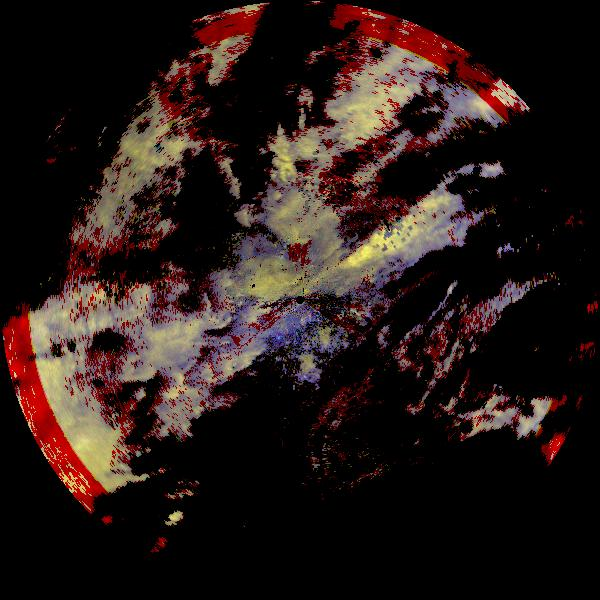roost: (308, 322, 347, 361)
